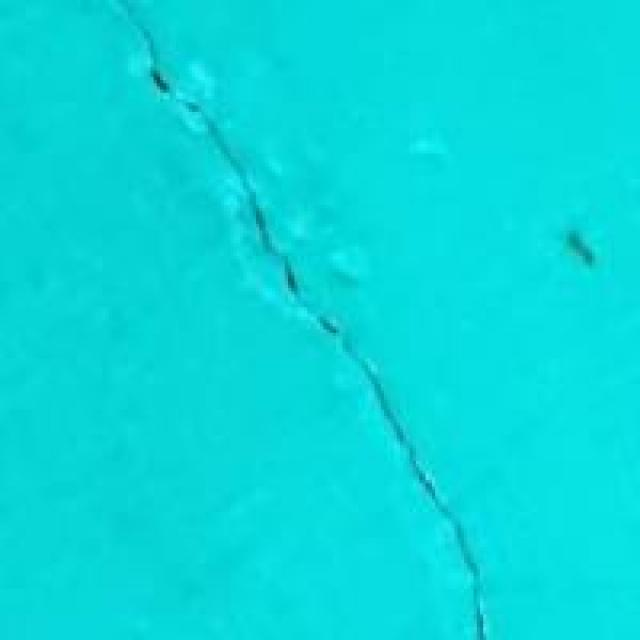crack: (128, 0, 490, 608)
